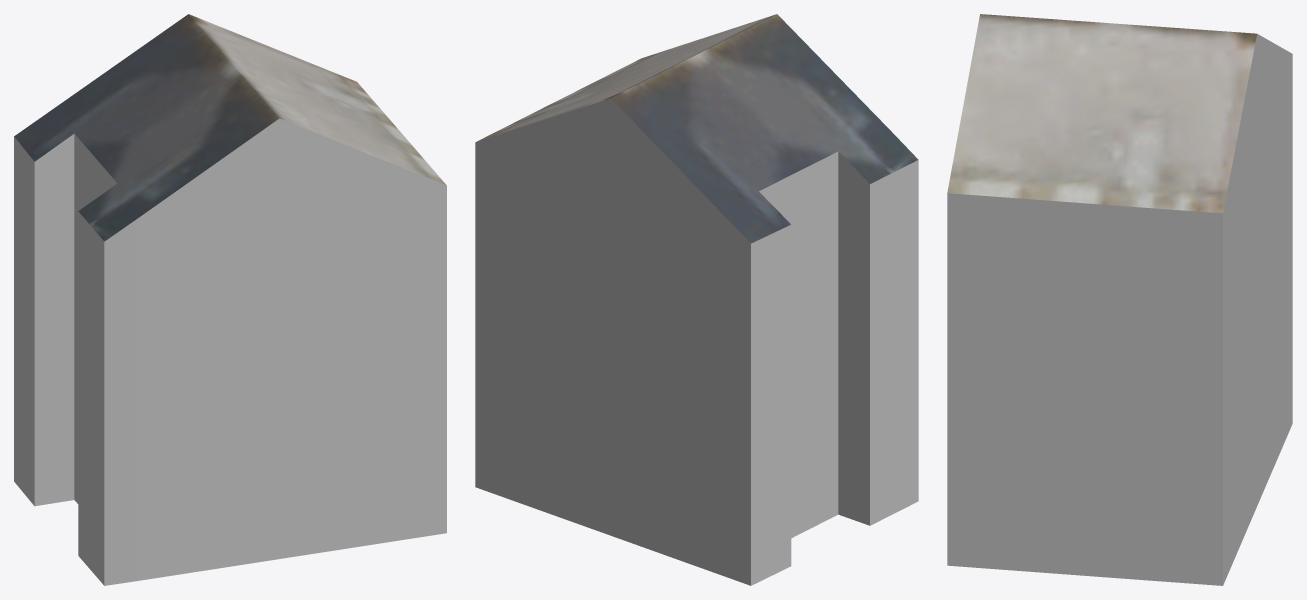
File: DEBW_0010007TxaB.gltf
3 views of the same model, side by side, from view 1: azimuth 30°, elevation 25°; view 2: azimuth 150°, elevation 25°; view 3: azimuth 270°, elevation 25° (orthographic). The views are drawn at different scales.
Visible parts, largest first — view 1: Z_UP; view 2: Z_UP; view 3: Z_UP.
Part boxes in pixels (box(x1,y1,x2,y2)): Z_UP: box(14, 14, 446, 585); Z_UP: box(475, 14, 918, 585); Z_UP: box(947, 14, 1292, 585).
Bounding box in the file's own units: 16.65 × 20.06 × 13.29.
Materials: 2 (1 with a texture image).
